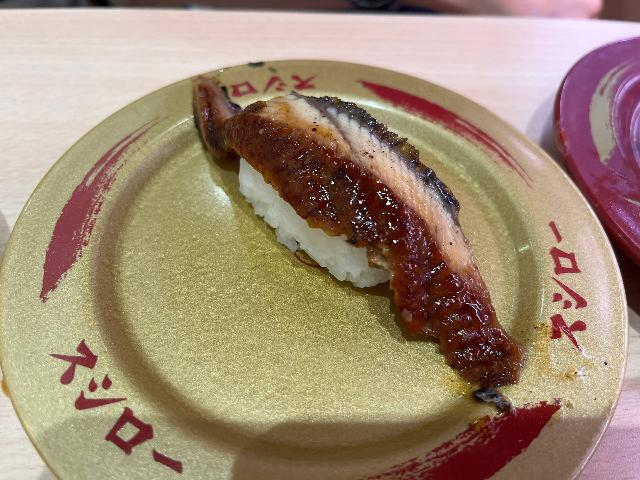jangold: (69, 65, 621, 448)
janred: (566, 39, 640, 220)
